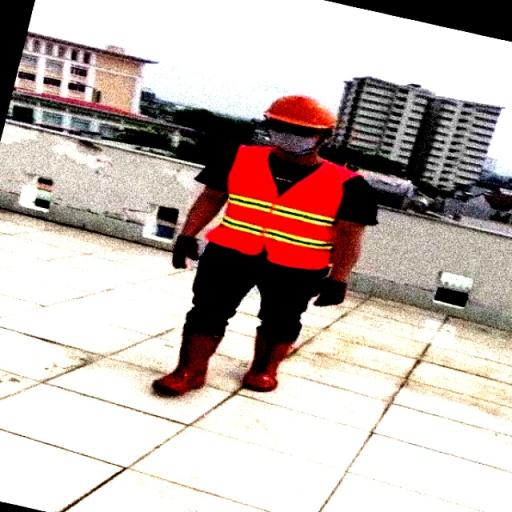boots: (146, 324, 231, 398), (241, 326, 301, 396)
gloves: (312, 274, 358, 311), (165, 234, 204, 268)
goggles: (260, 121, 320, 135)
helmet: (262, 92, 342, 134)
vest: (206, 135, 345, 273)
